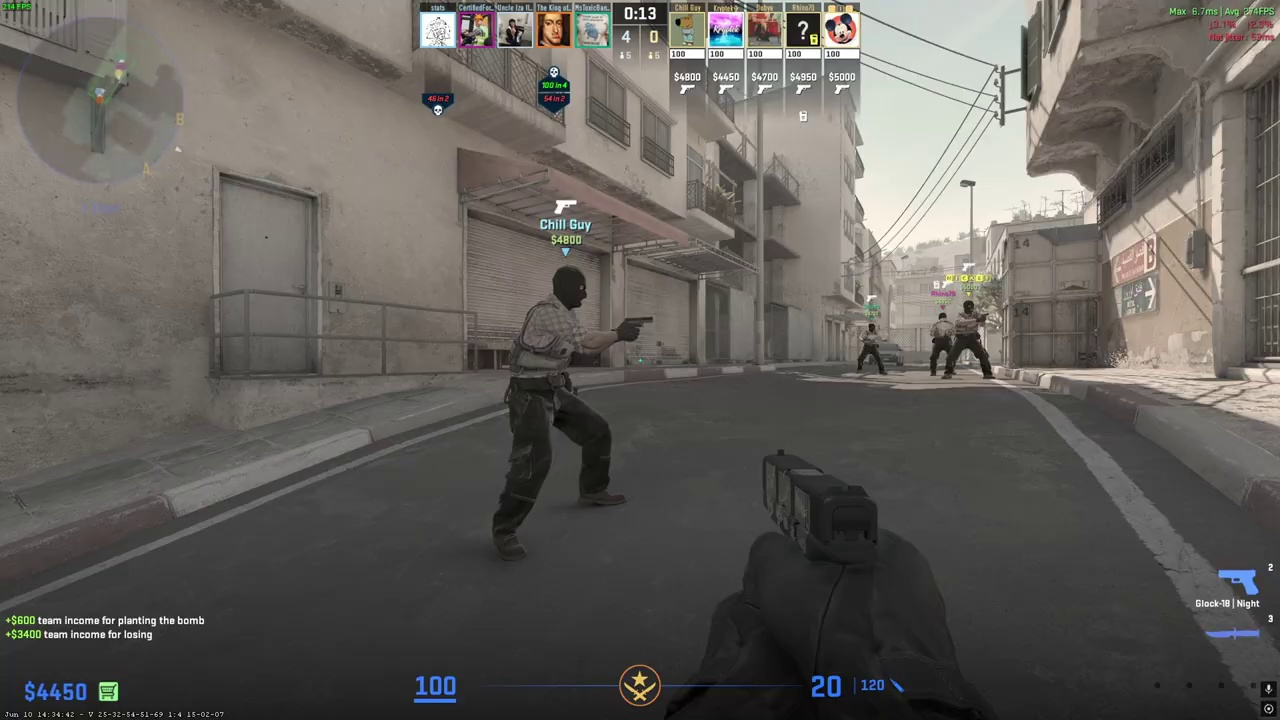Terrorist: (493, 265, 627, 562), (946, 300, 993, 379), (857, 323, 885, 375), (930, 312, 952, 378)
